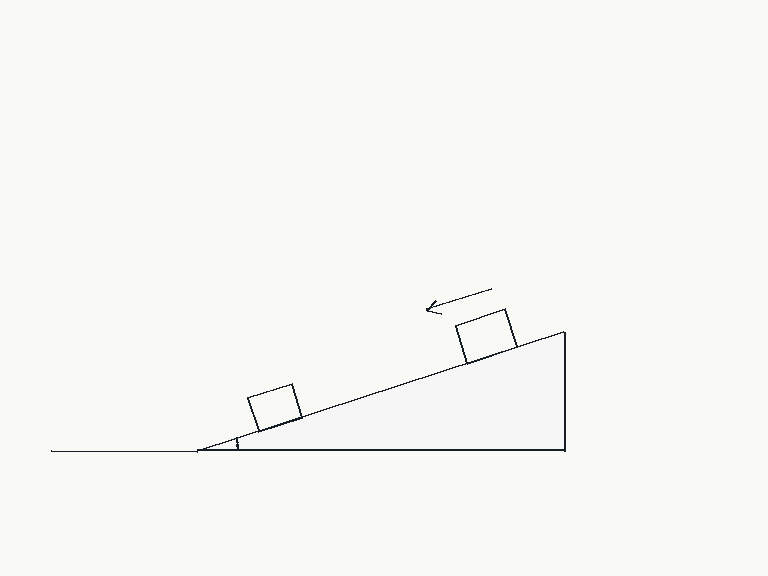block: (453, 307, 519, 365), (246, 382, 304, 432)
ramp: (196, 329, 565, 452)
